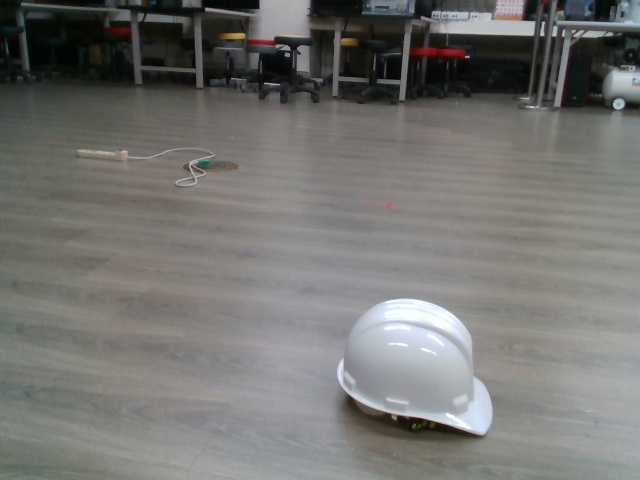helmet: (333, 293, 497, 446)
